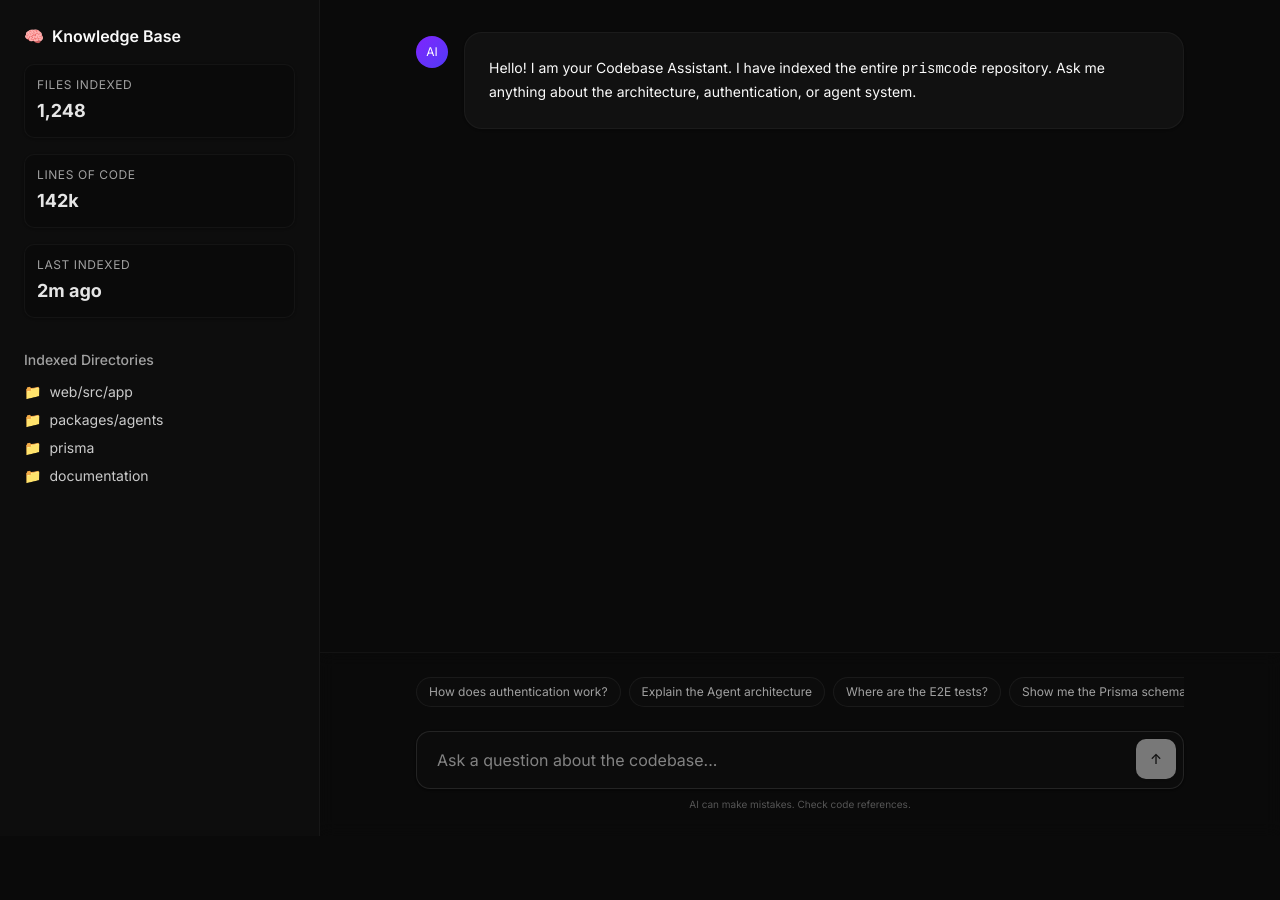
it: AskPage › handles API error
This screenshot has width=1280, height=900.
In the field with placeholder "Ask a question about the codebase...": [800, 760] box top-left (416, 731), bottom-right (1184, 789), type "Error query"
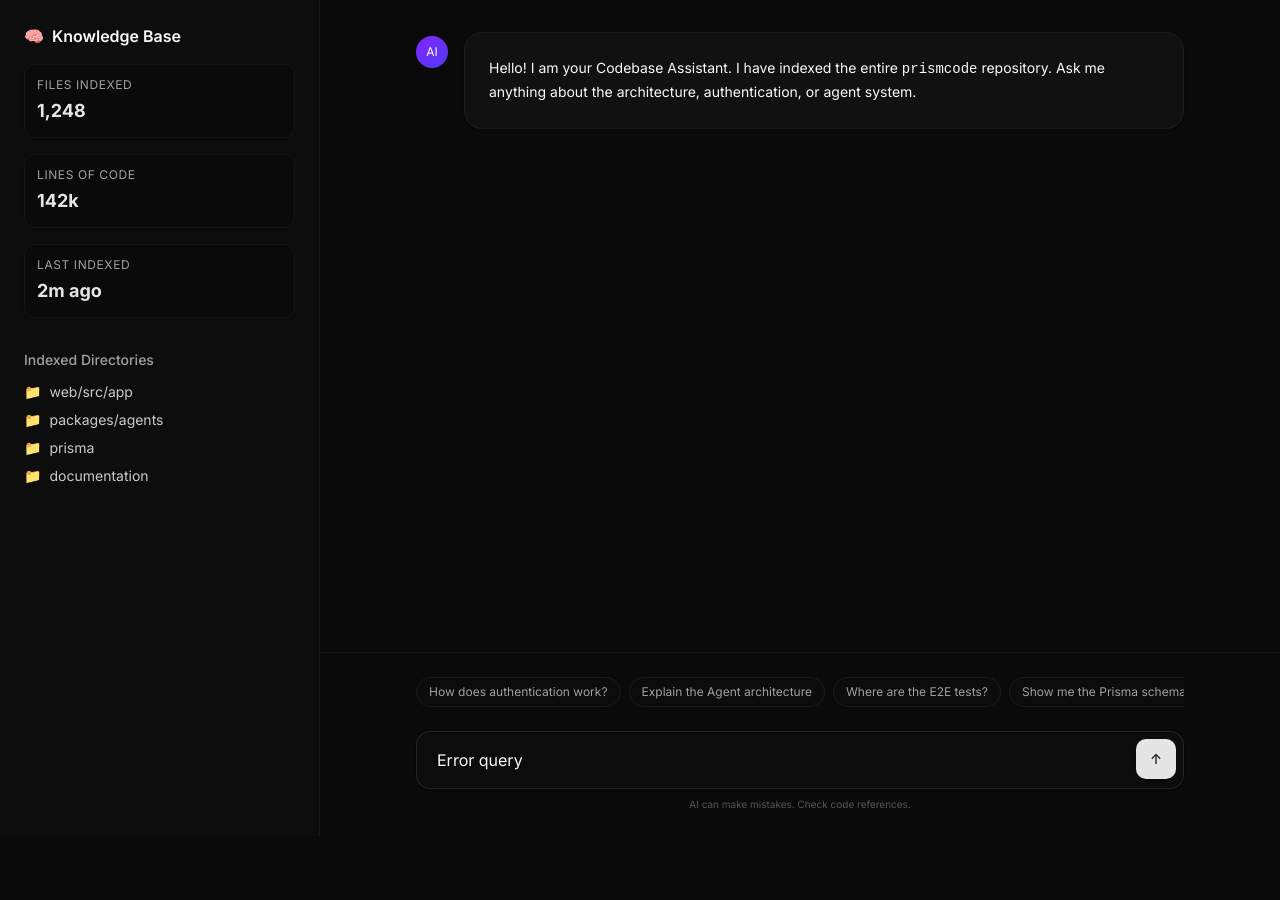
Submit the form with placeholder "Ask a question", box top-left (416, 731), bottom-right (1184, 789)
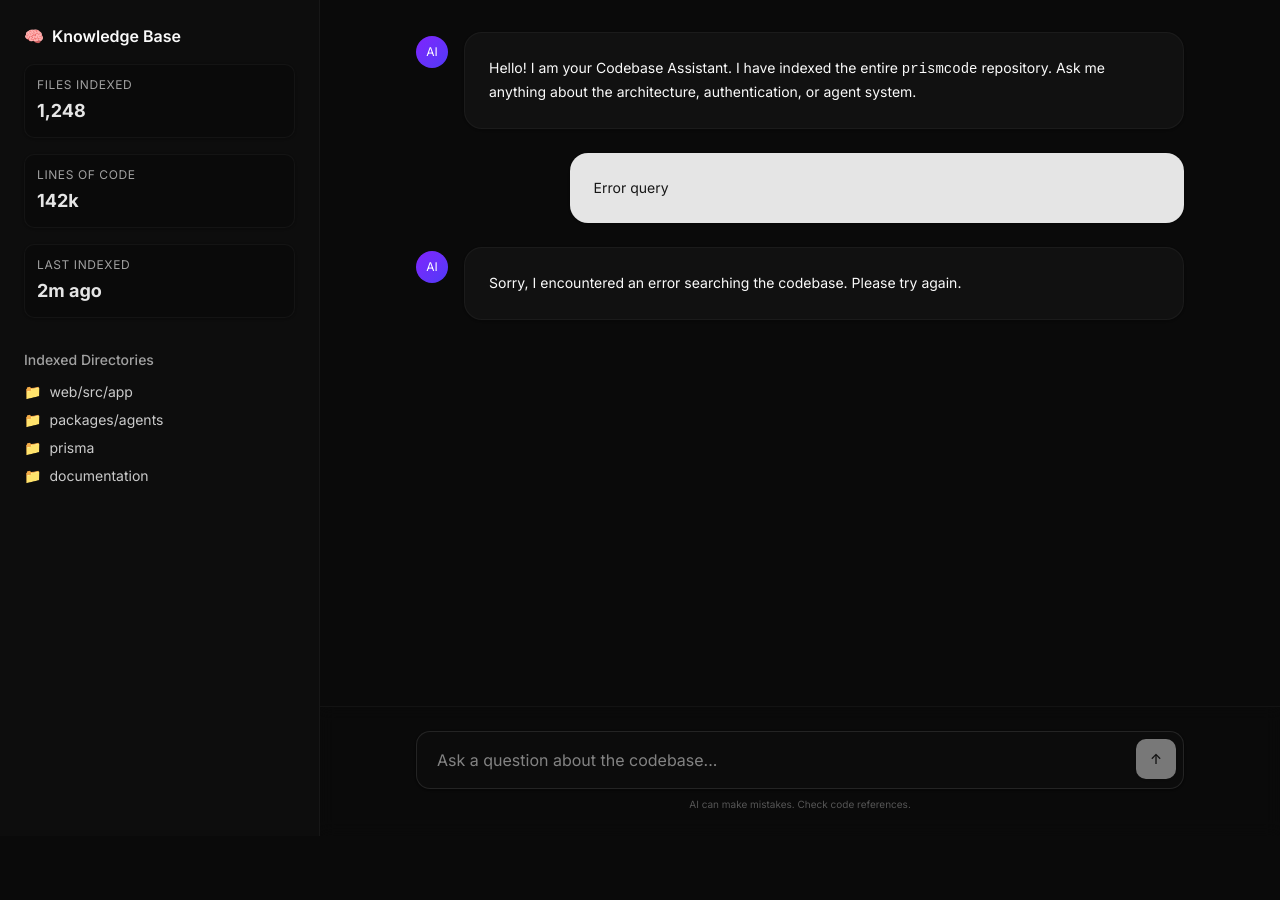
Check: the text "Sorry, I encountered an error" is shown, box top-left (489, 274), bottom-right (961, 291)
